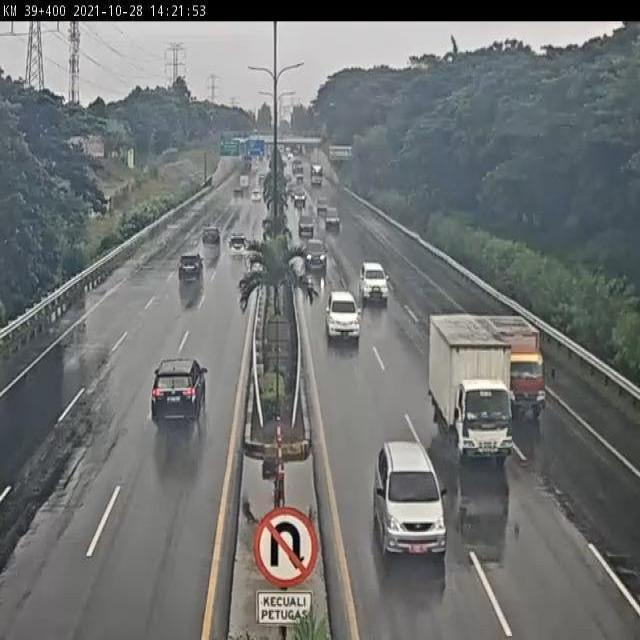car: (371, 440, 448, 555), (150, 360, 208, 425), (325, 290, 361, 342), (360, 259, 391, 309), (305, 237, 329, 275), (179, 250, 204, 282), (228, 236, 250, 257), (202, 228, 222, 249)
truck-m-: (428, 313, 514, 463)
truck-s-: (485, 314, 548, 418)
